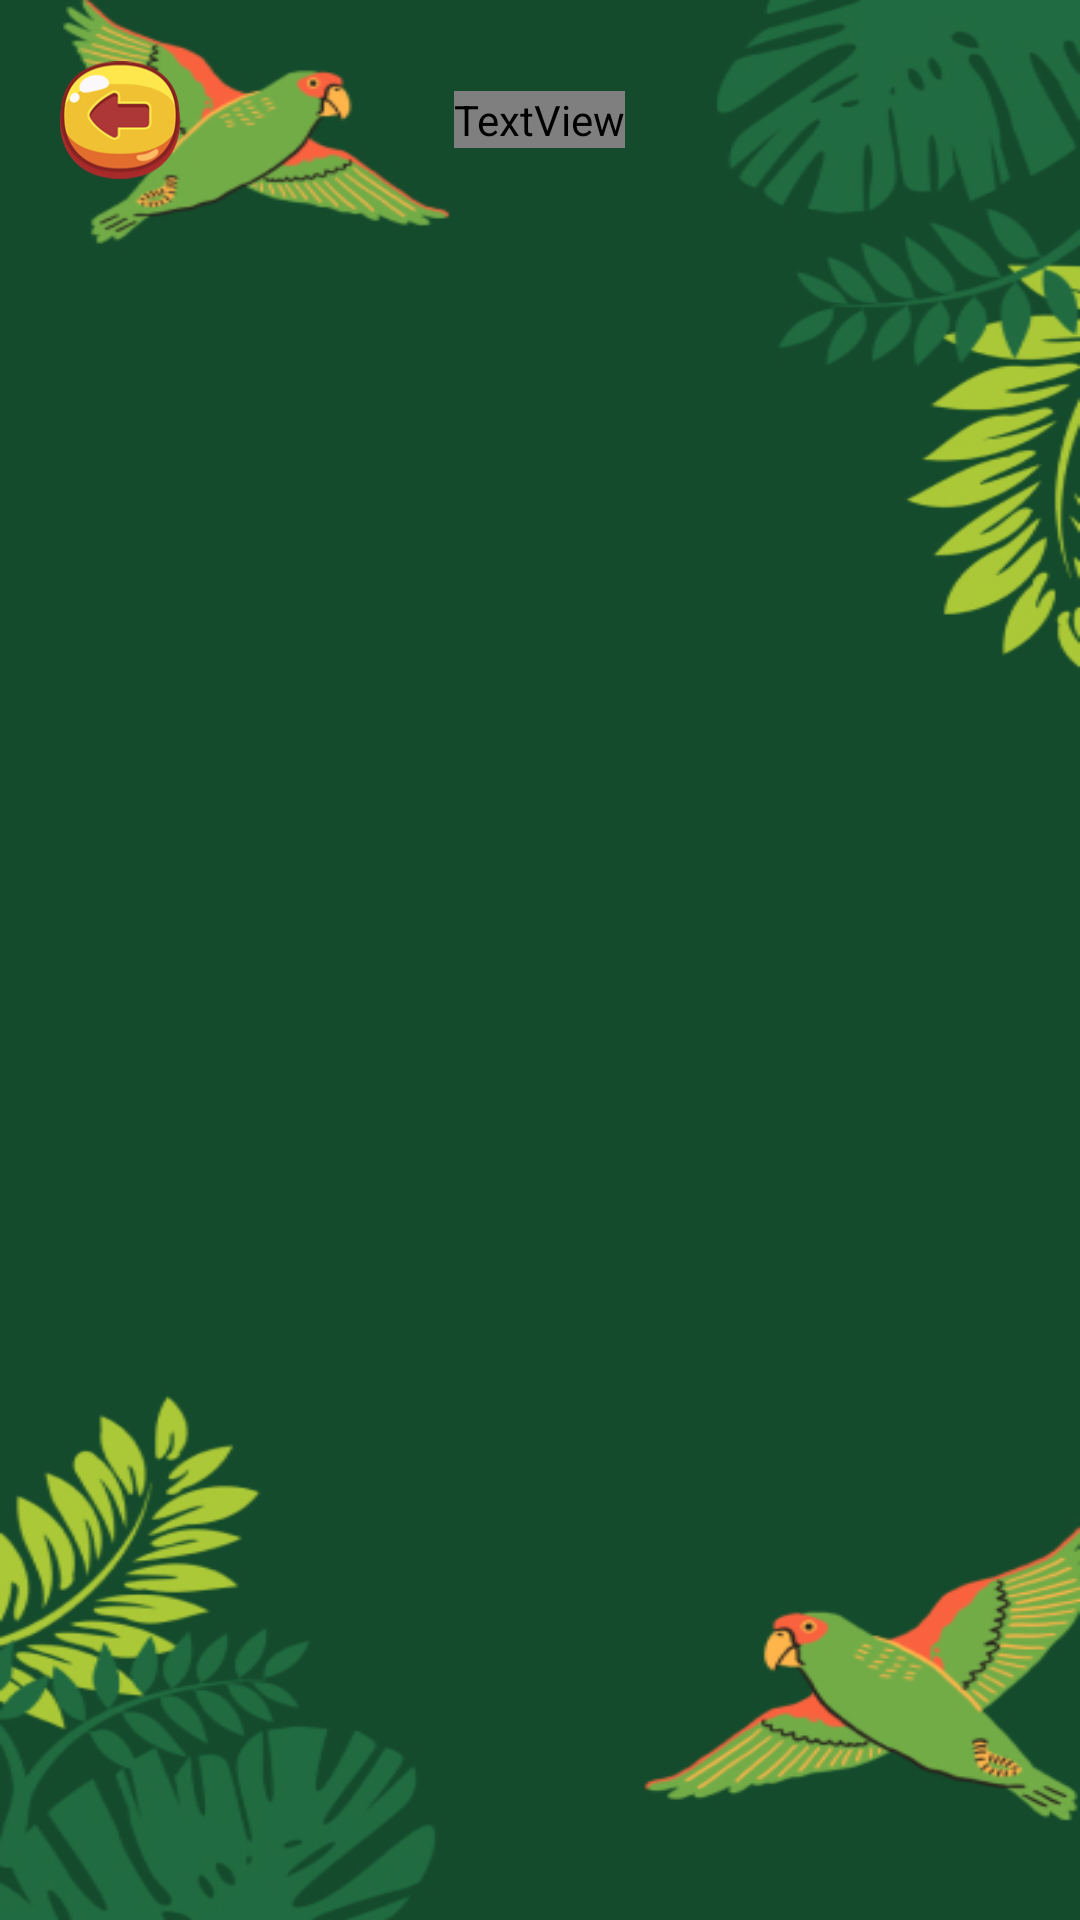

Icons on this 1080px x 1920px Android screen, each with the point to tap as (x=x, y=y):
back: (x=120, y=120)
